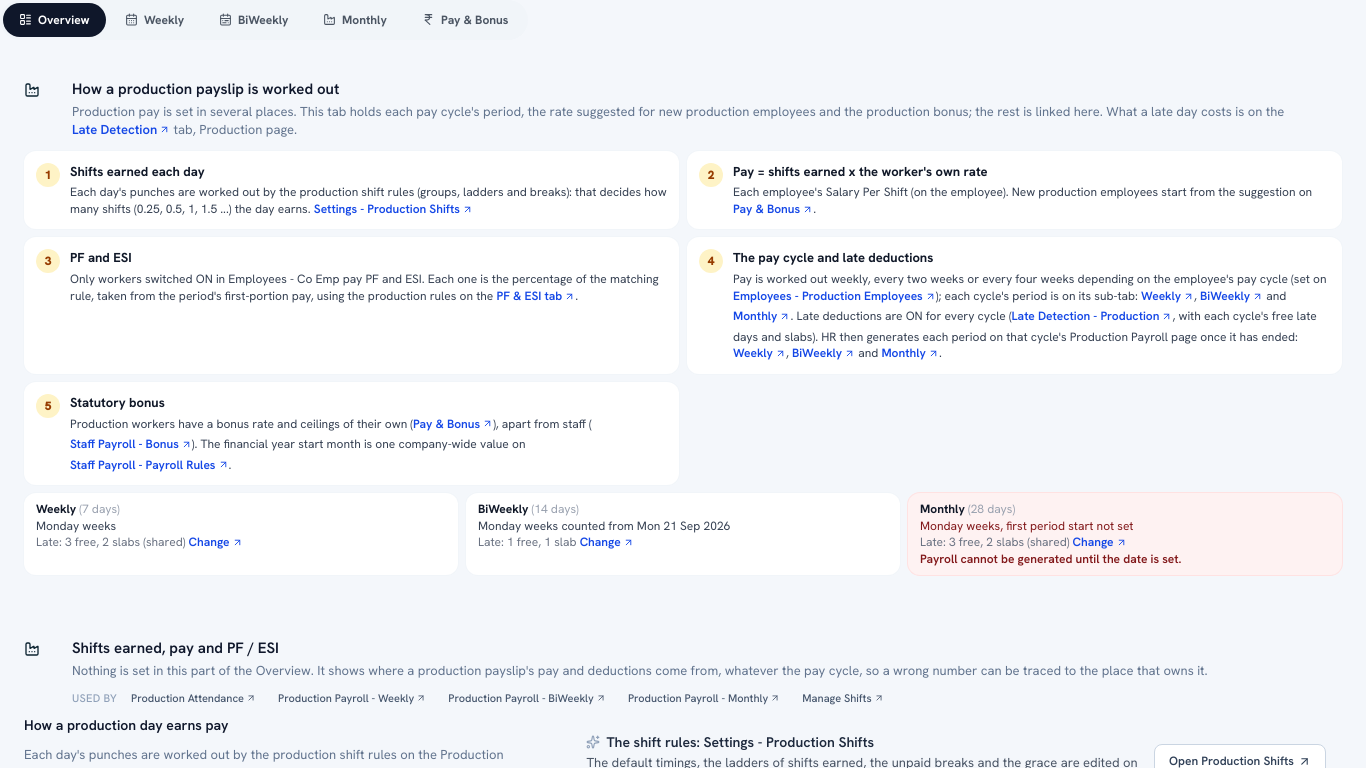
Scenario: Settings -> Production Payroll › offers every weekday as the week start, and the Weekly save sends the one chosen
This screenshot has width=1366, height=768.
Step 1. Click the tab "Weekly" → coordinates (154, 20), box x1=109 y1=3 x2=200 y2=37
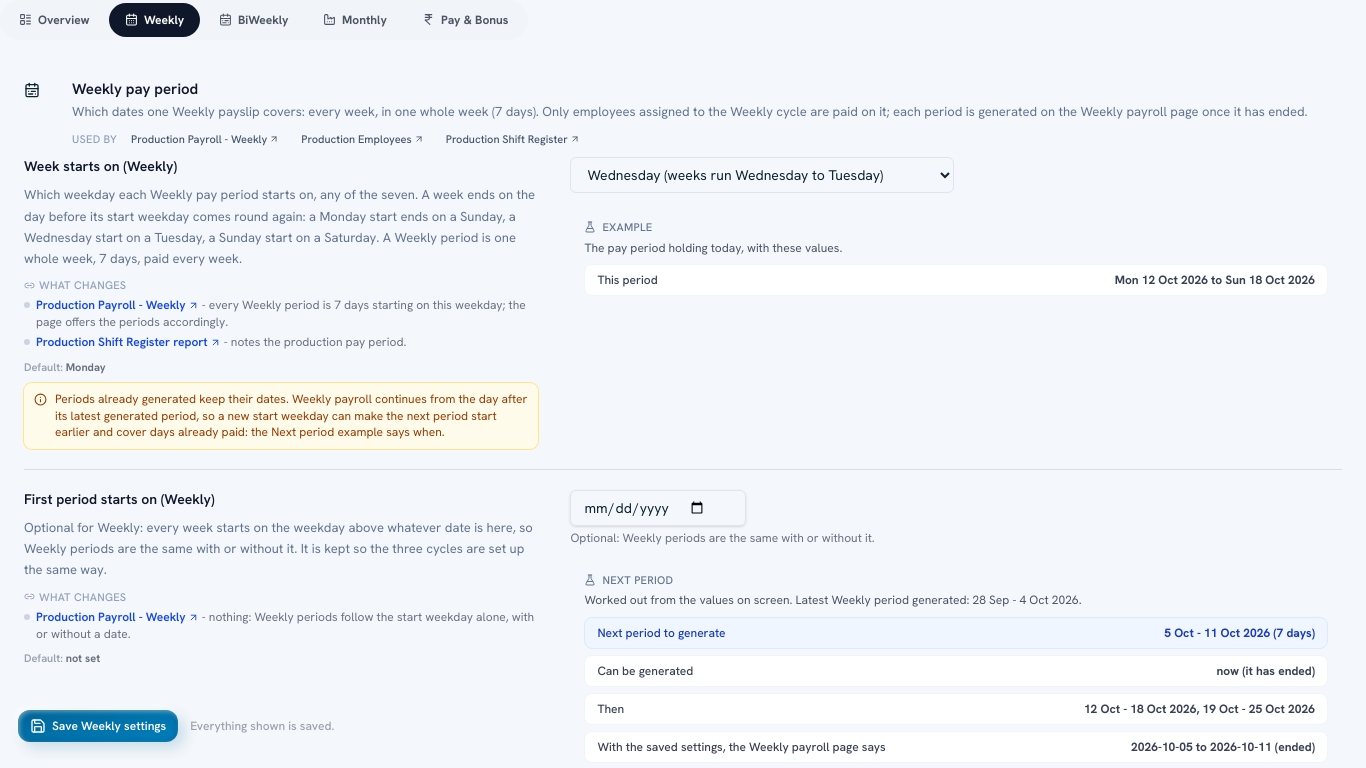
Step 2. Select "Wednesday (weeks run Wednesday to Tuesday)" in the dropdown with id "weekly-week-start-input" → coordinates (762, 175), box x1=570 y1=157 x2=954 y2=193
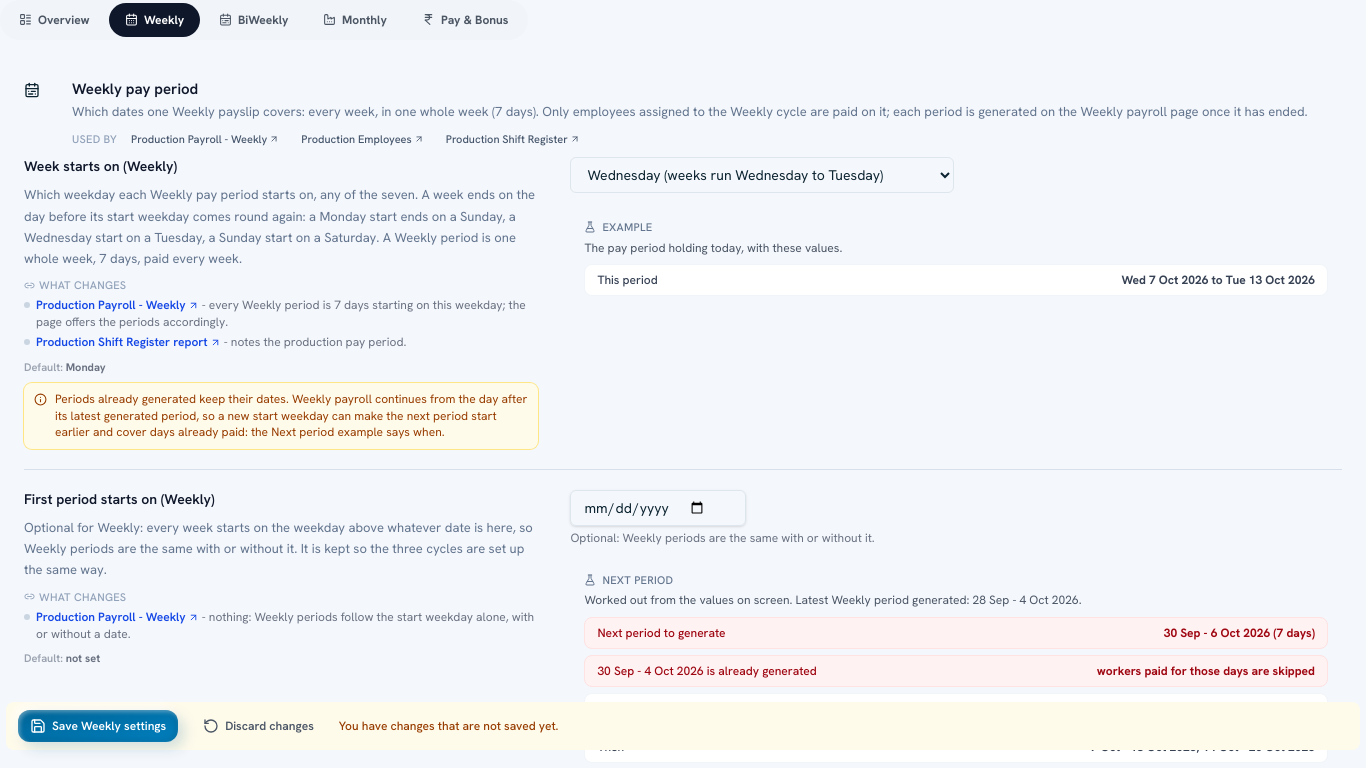
Expected: the element with test id "weekly-today-preview" shows "Wed 7 Oct 2026 to Tue 13 Oct 2026", x1=1121 y1=272 x2=1315 y2=288
Expected: the element with test id "weekly-next-period-preview" shows "30 Sep - 6 Oct 2026 (7 days)", x1=1164 y1=625 x2=1315 y2=641
Expected: the element with test id "weekly-next-period-preview" shows "30 Sep - 4 Oct 2026 is already generated", x1=597 y1=663 x2=817 y2=679
Step 3. Click the button "Save Weekly settings" → coordinates (98, 726), box x1=18 y1=710 x2=178 y2=742
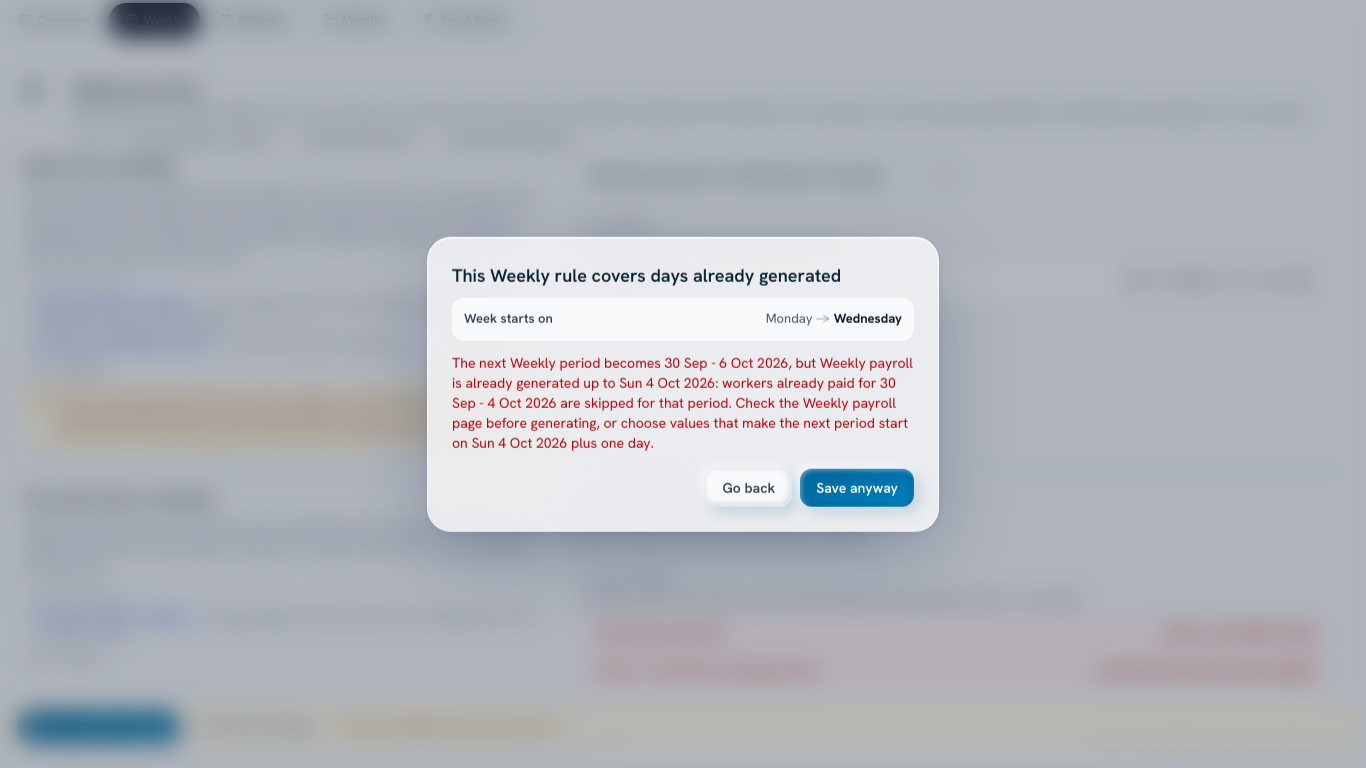
Step 4. Click the button "Save anyway" → coordinates (857, 487), box x1=800 y1=468 x2=914 y2=506
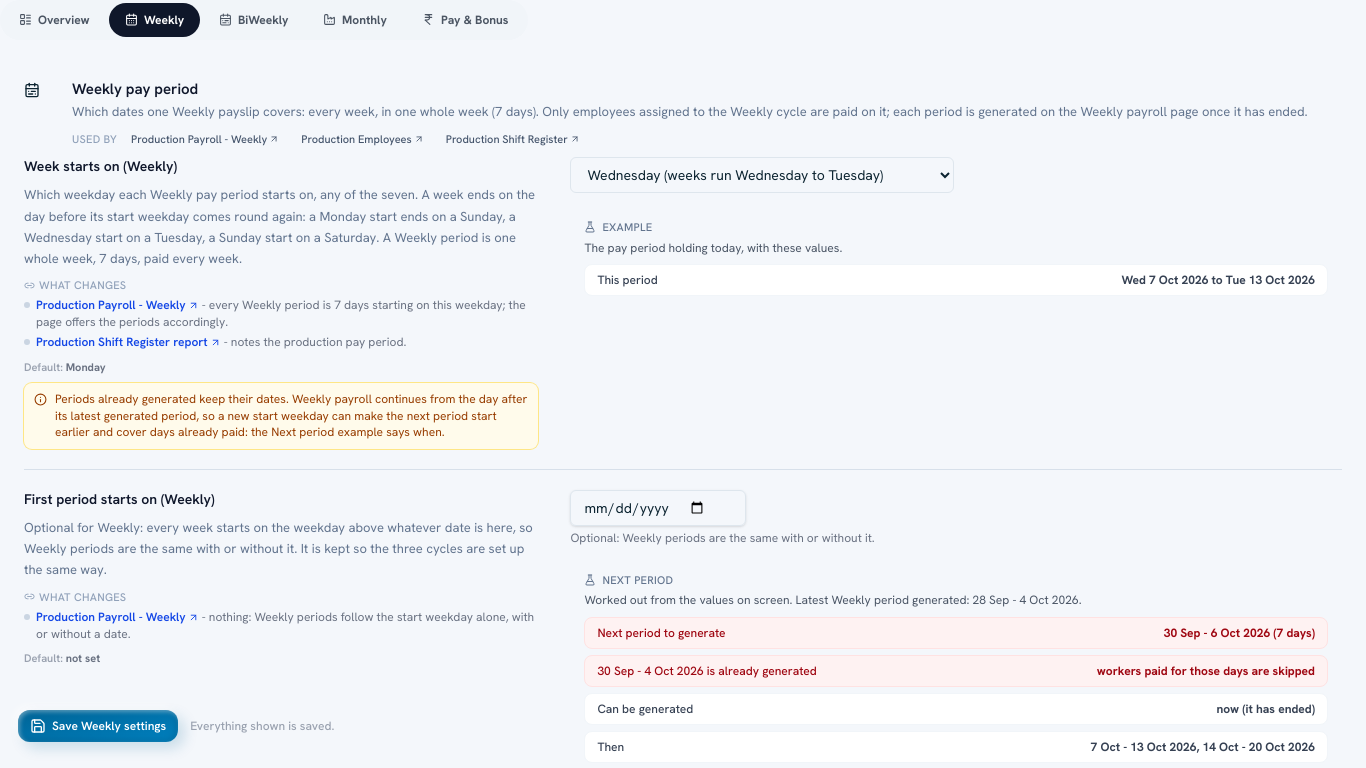
Step 5. Click the tab "Overview" → coordinates (54, 20), box x1=3 y1=3 x2=106 y2=37
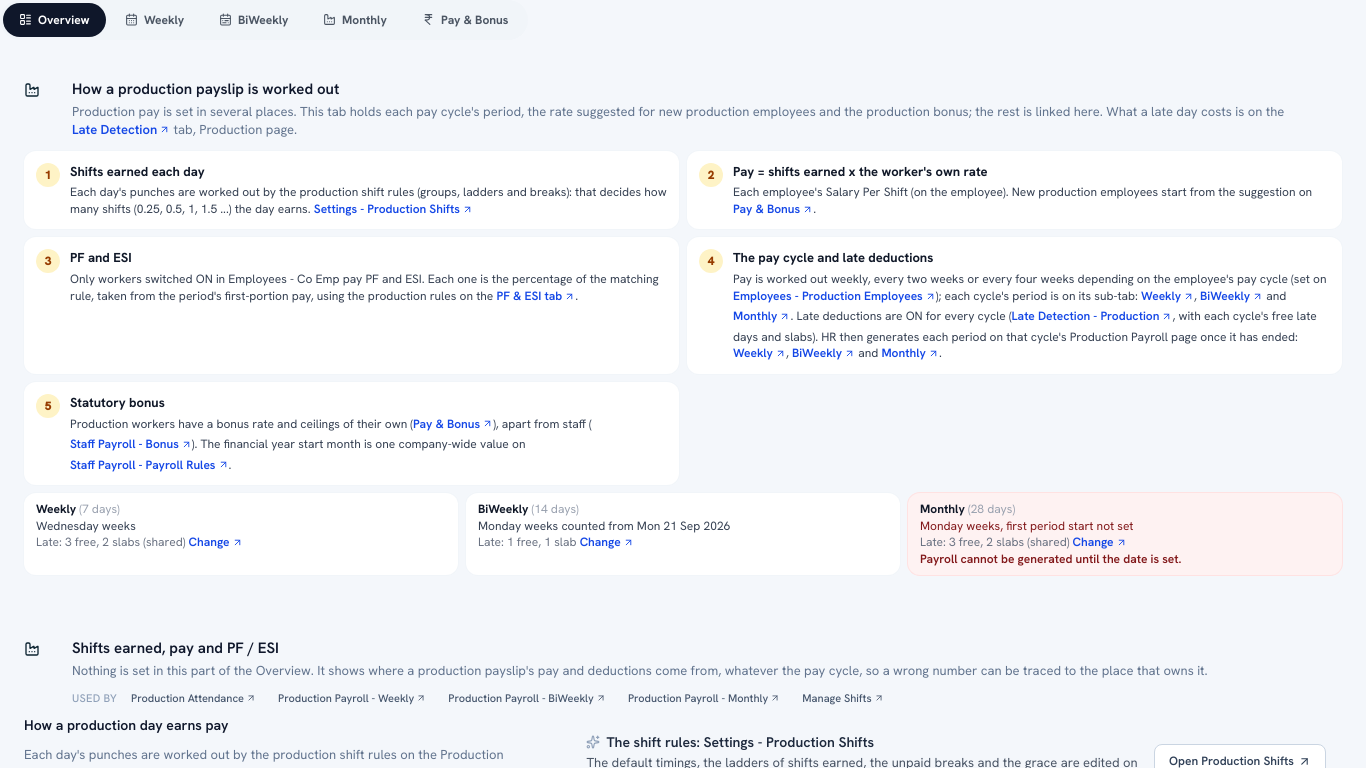
Expected: the list item with test id "production-cycle-summary-weekly" shows "Wednesday weeks", x1=36 y1=518 x2=136 y2=534
